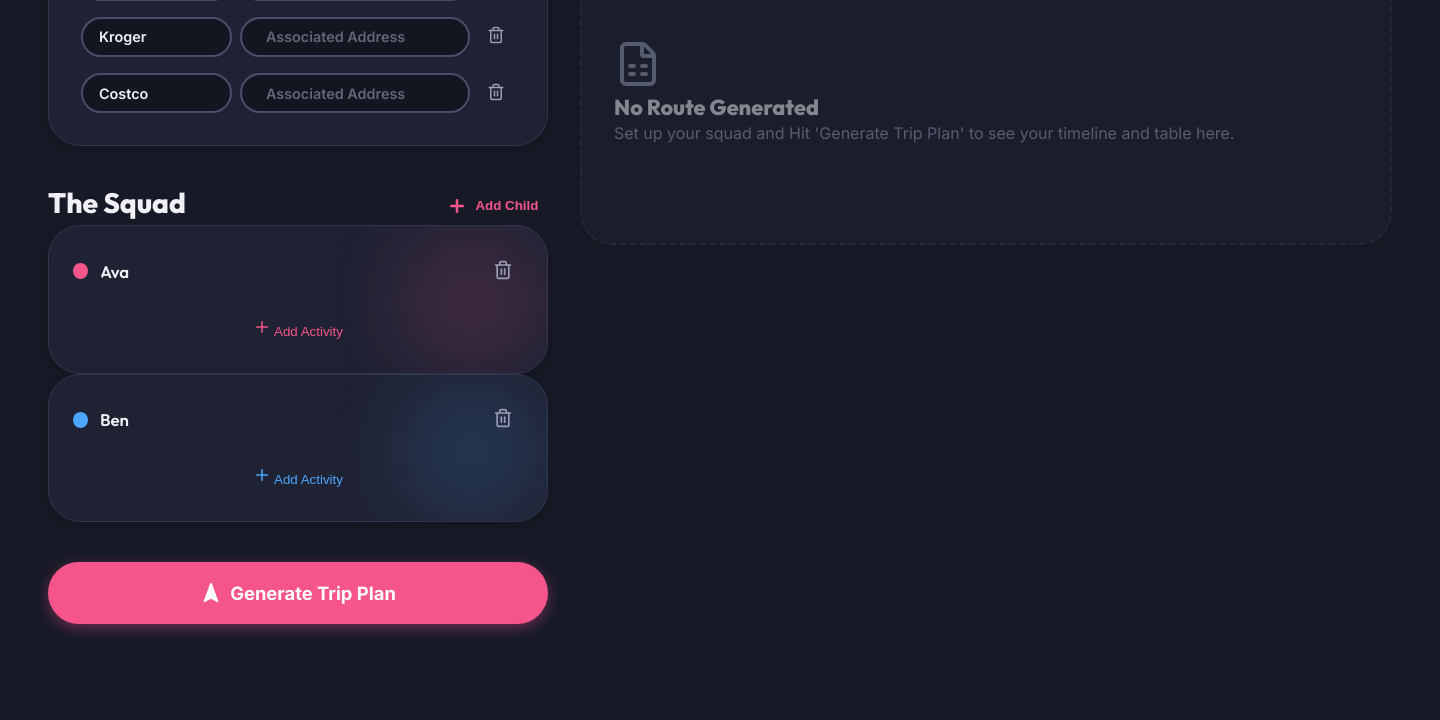
Test: KidRun App › handles empty coordinates correctly on route generation
(page scrolled)
# Try generating route without entering the Basecamp and activities location
Click the button "Generate Trip Plan" at (298,593), box [48,562,548,624]
(page scrolled)
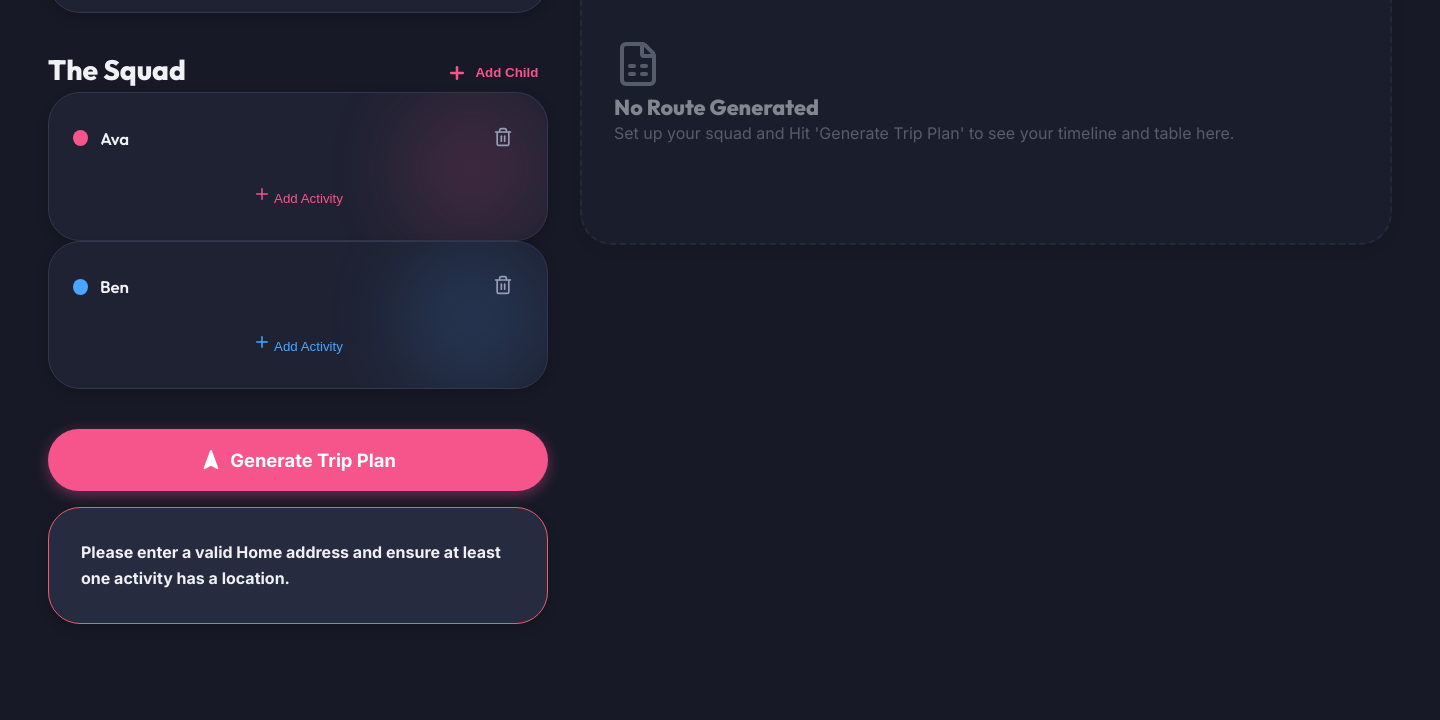
Check: the text "Please enter a valid Home address" is shown, box [81,542,501,588]
